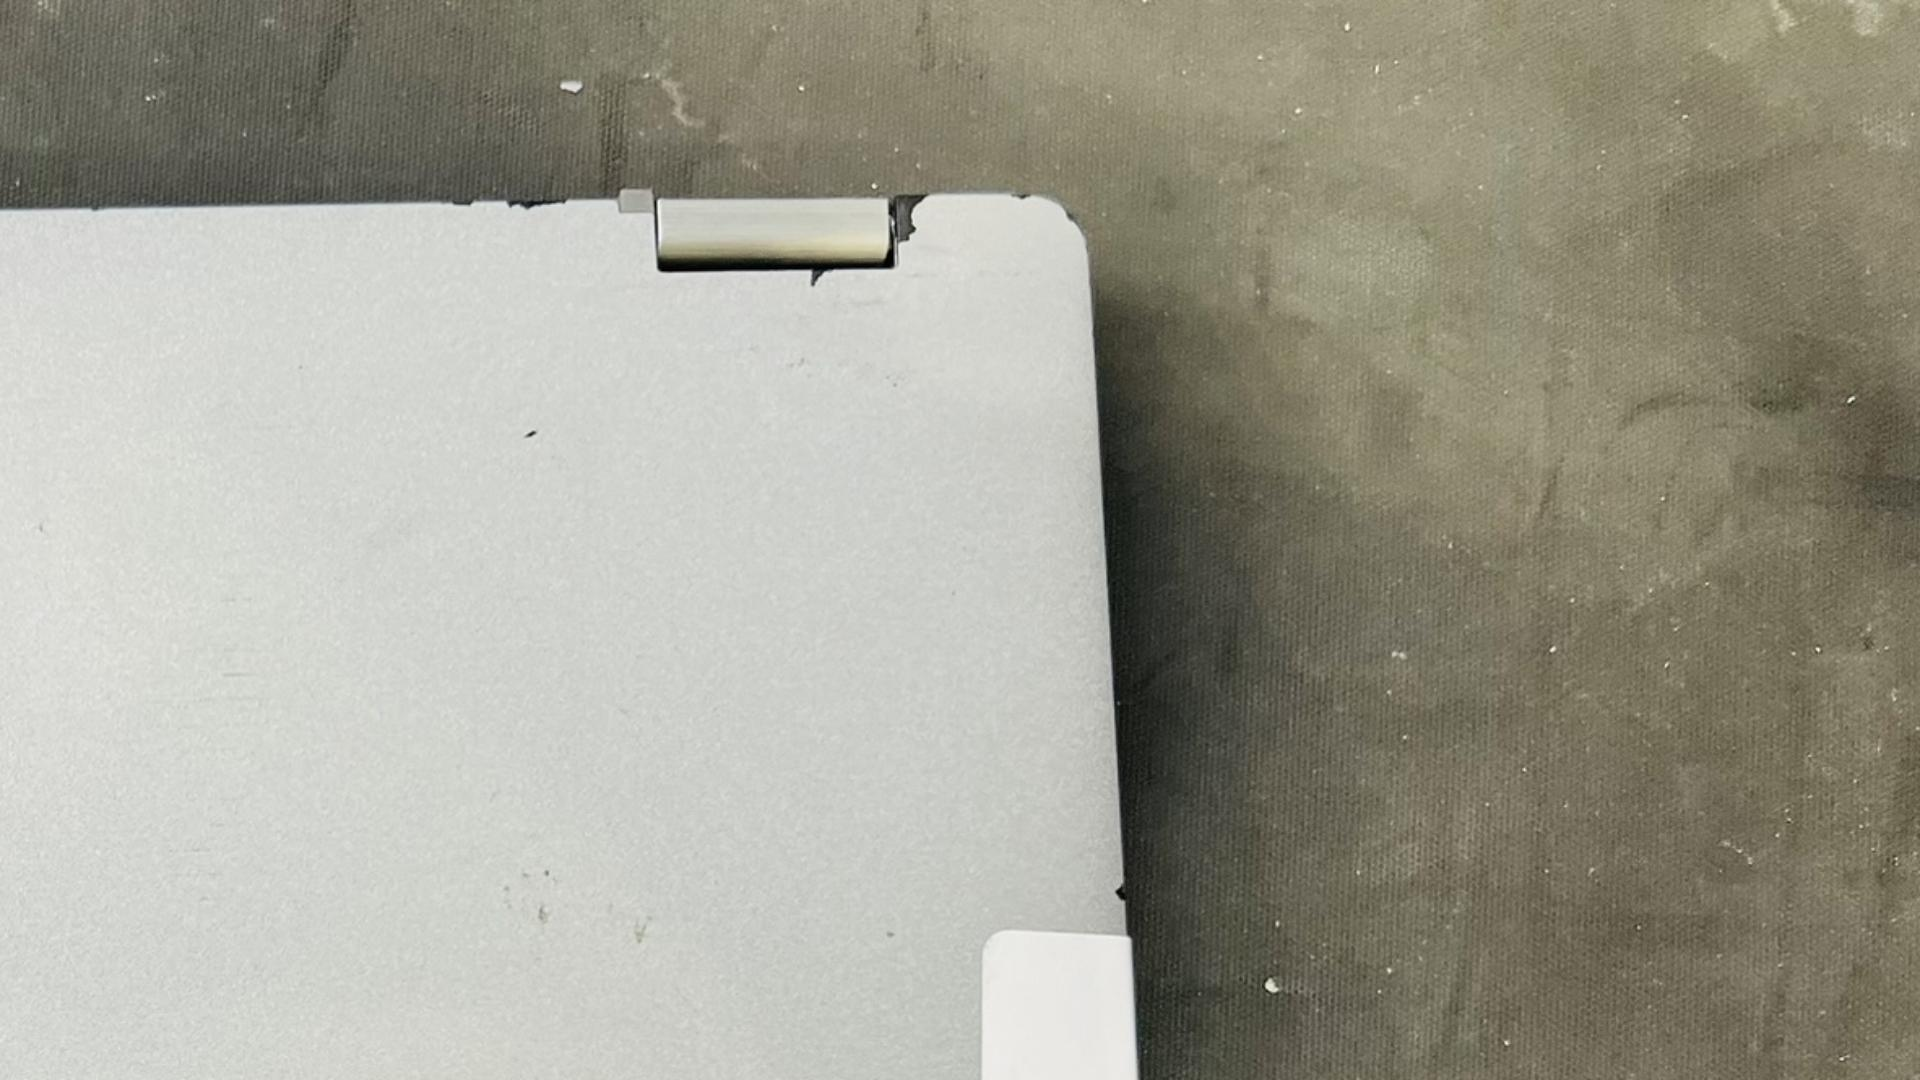chip: (894, 194, 932, 245), (505, 199, 570, 212), (810, 269, 835, 289), (1065, 210, 1085, 235), (1010, 194, 1033, 202), (451, 200, 475, 207)
scratches: (1113, 881, 1126, 902), (521, 429, 541, 442)
